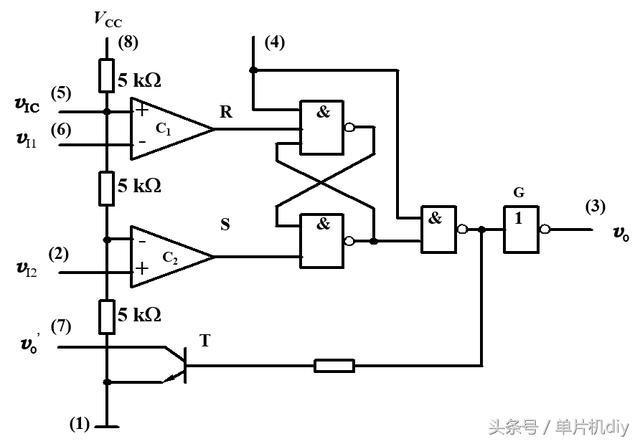bistable flip-flop: (274, 98, 456, 268)
comparator1: (129, 95, 216, 162), (129, 223, 216, 288)
discharge circuit: (163, 343, 188, 387)
output circuit: (505, 206, 539, 252)
reset circuit: (244, 59, 264, 82)
resistance: (99, 299, 114, 335), (99, 172, 114, 204), (99, 58, 113, 92)
